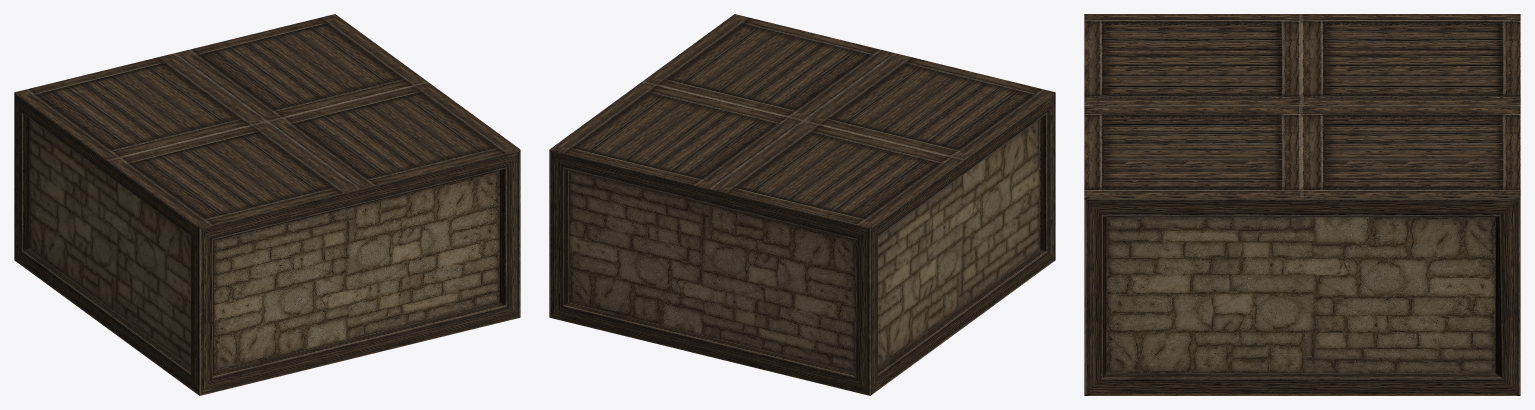
File: House_8X8_05b.fbx
The picture shows the model from 3 angles, left to right: view 1: azimuth 30°, elevation 25°; view 2: azimuth 150°, elevation 25°; view 3: azimuth 270°, elevation 25°; orthographic projection. The views are drawn at different scales.
Parts seen in each view (by area): view 1: House_8X8_05b; view 2: House_8X8_05b; view 3: House_8X8_05b.
Part boxes in pixels (<box>): House_8X8_05b: <box>14,14,520,395</box>; House_8X8_05b: <box>549,14,1055,395</box>; House_8X8_05b: <box>1084,14,1520,395</box>.
Bounding box in the file's own units: 8 × 4 × 8.
